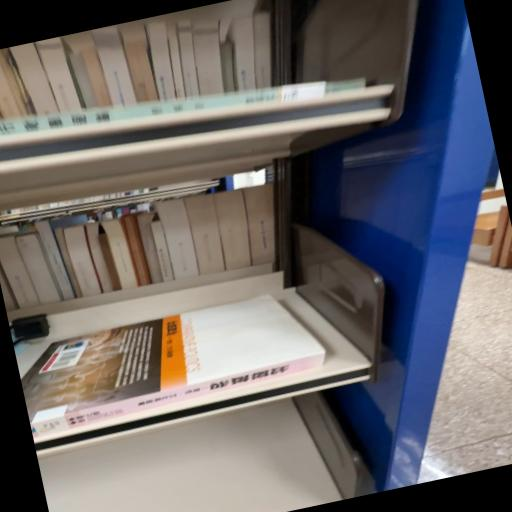flat: (21, 296, 326, 437)
